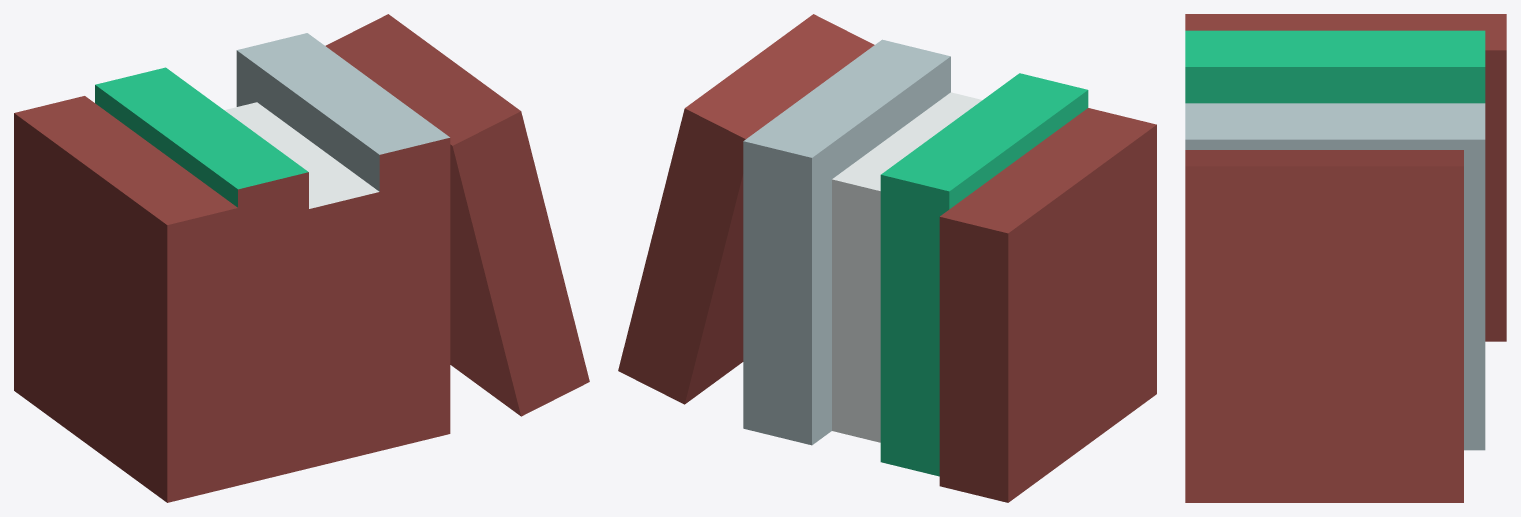
File: Books.glb
The picture shows the model from 3 angles, left to right: view 1: azimuth 30°, elevation 25°; view 2: azimuth 150°, elevation 25°; view 3: azimuth 270°, elevation 25°; orthographic projection. The views are drawn at different scales.
Parts seen in each view (by area): view 1: books; view 2: books; view 3: books.
Boxes of the visible parts, <box> form: books: <box>14,14,589,502</box>; books: <box>618,14,1156,502</box>; books: <box>1185,14,1506,502</box>.
Size of the model in its own units: 0.1504 by 0.1039 by 0.0945.
